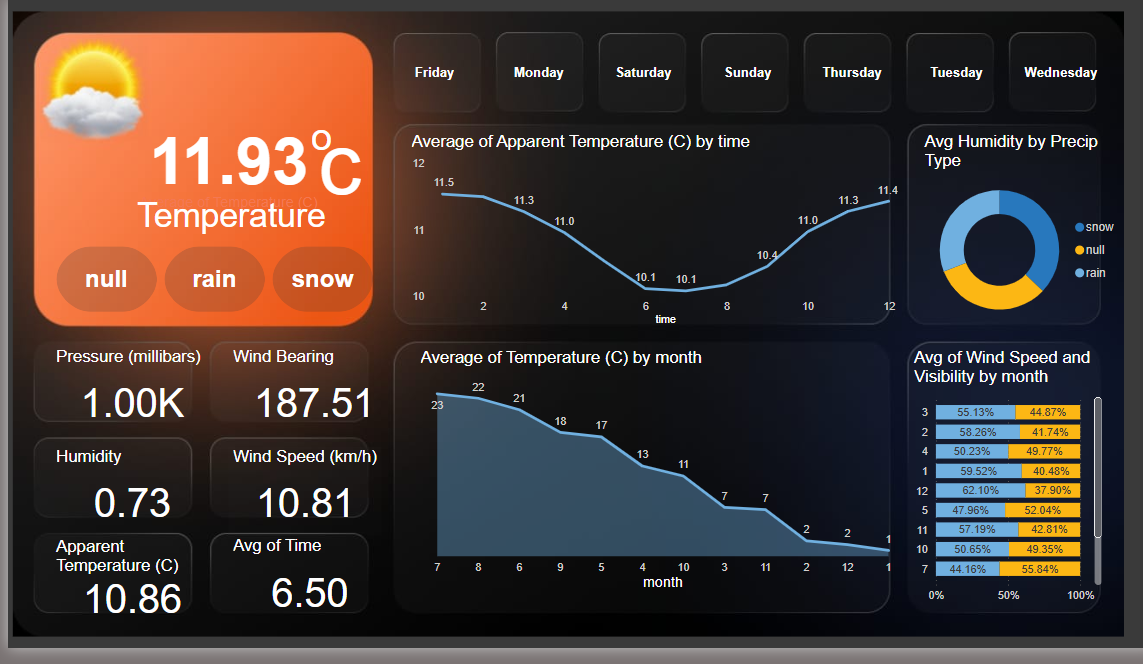

The page's visual inventory and layout, read from the dashboard file:
{"tool":"powerbi","page":{"name":"Page 1","canvas":[1280,720],"ordinal":0},"visuals":[{"type":"image","box":[0,0,1245,720],"z":0},{"type":"textbox","box":[1242.5,675,37.5,45],"z":1000},{"type":"lineChart","fields":{"Category":["weatherHistory.time"],"Y":["Avg(weatherHistory.Apparent Temperature (C))"]},"box":[442.9,147.1,550,220],"z":2000},{"type":"card","fields":{"Values":["Avg(weatherHistory.Temperature (C))"]},"box":[135,121.7,220,118.3],"z":3000},{"type":"textbox","box":[138.9,212.2,230,56.7],"z":4000},{"type":"card","title":"Pressure (millibars)","fields":{"Values":["Avg(weatherHistory.Pressure (millibars))"]},"box":[48.6,385.7,178.6,100],"z":5000},{"type":"card","title":"Wind Bearing","fields":{"Values":["Avg(weatherHistory.Wind Bearing (degrees))"]},"box":[245.7,385.7,190,100],"z":6000},{"type":"card","title":"Apparent Temperature (C)","fields":{"Values":["Avg(weatherHistory.Apparent Temperature (C))"]},"box":[48.8,596.2,178.8,90],"z":7000},{"type":"card","title":"Wind Speed (km/h)","fields":{"Values":["Avg(weatherHistory.Wind Speed (km/h))"]},"box":[245.7,497.1,170,98.6],"z":8000},{"type":"card","title":"Humidity","fields":{"Values":["Avg(weatherHistory.Humidity)"]},"box":[48.6,497.1,178.6,98.6],"z":9000},{"type":"card","title":"Avg of Time","fields":{"Values":["Avg(weatherHistory.time)"]},"box":[245.7,595.7,180,101.4],"z":10000},{"type":"areaChart","fields":{"Category":["weatherHistory.month"],"Y":["Avg(weatherHistory.Temperature (C))"]},"box":[454,386,548,274],"z":11000},{"type":"textbox","box":[331.7,121.7,80,60],"z":12000},{"type":"textbox","box":[340,121.7,85,135],"z":13000},{"type":"donutChart","title":"Avg Humidity by Precip Type","fields":{"Category":["weatherHistory.Precip Type"],"Y":["Avg(weatherHistory.Humidity)"]},"box":[1012.9,147.1,230,220],"z":14000},{"type":"hundredPercentStackedBarChart","title":"Avg of Wind Speed  and Visibility  by month","fields":{"Y":["Avg(weatherHistory.Wind Speed (km/h))","Avg(weatherHistory.Visibility (km))"],"Category":["weatherHistory.month"]},"box":[1001.7,386.7,218.3,290],"z":15000},{"type":"advancedSlicerVisual","fields":{"Values":["weatherHistory.WeekdayName"]},"box":[415.7,0,814.3,161.4],"z":16000},{"type":"advancedSlicerVisual","fields":{"Values":["weatherHistory.Precip Type"]},"box":[48.3,268.3,363.3,83.3],"z":17000}]}

Visuals, with their boxes on the page's 1280x720 design canvas (x1, y1, x2, y2). These are canvas units, not pixel positions in the 1143x664 screenshot, which may show the page scaled, cropped or inside an application window:
image: x1=0 y1=0 x2=1245 y2=720
textbox: x1=1242 y1=675 x2=1280 y2=720
lineChart - weatherHistory.time x Avg(weatherHistory.Apparent Temperature (C)): x1=443 y1=147 x2=993 y2=367
card - Avg(weatherHistory.Temperature (C)): x1=135 y1=122 x2=355 y2=240
textbox: x1=139 y1=212 x2=369 y2=269
"Pressure (millibars)" card: x1=49 y1=386 x2=227 y2=486
"Wind Bearing" card: x1=246 y1=386 x2=436 y2=486
"Apparent Temperature (C)" card: x1=49 y1=596 x2=228 y2=686
"Wind Speed (km/h)" card: x1=246 y1=497 x2=416 y2=596
"Humidity" card: x1=49 y1=497 x2=227 y2=596
"Avg of Time" card: x1=246 y1=596 x2=426 y2=697
areaChart - weatherHistory.month x Avg(weatherHistory.Temperature (C)): x1=454 y1=386 x2=1002 y2=660
textbox: x1=332 y1=122 x2=412 y2=182
textbox: x1=340 y1=122 x2=425 y2=257
"Avg Humidity by Precip Type" donutChart: x1=1013 y1=147 x2=1243 y2=367
"Avg of Wind Speed  and Visibility  by month" hundredPercentStackedBarChart: x1=1002 y1=387 x2=1220 y2=677
advancedSlicerVisual - weatherHistory.WeekdayName: x1=416 y1=0 x2=1230 y2=161
advancedSlicerVisual - weatherHistory.Precip Type: x1=48 y1=268 x2=412 y2=352
